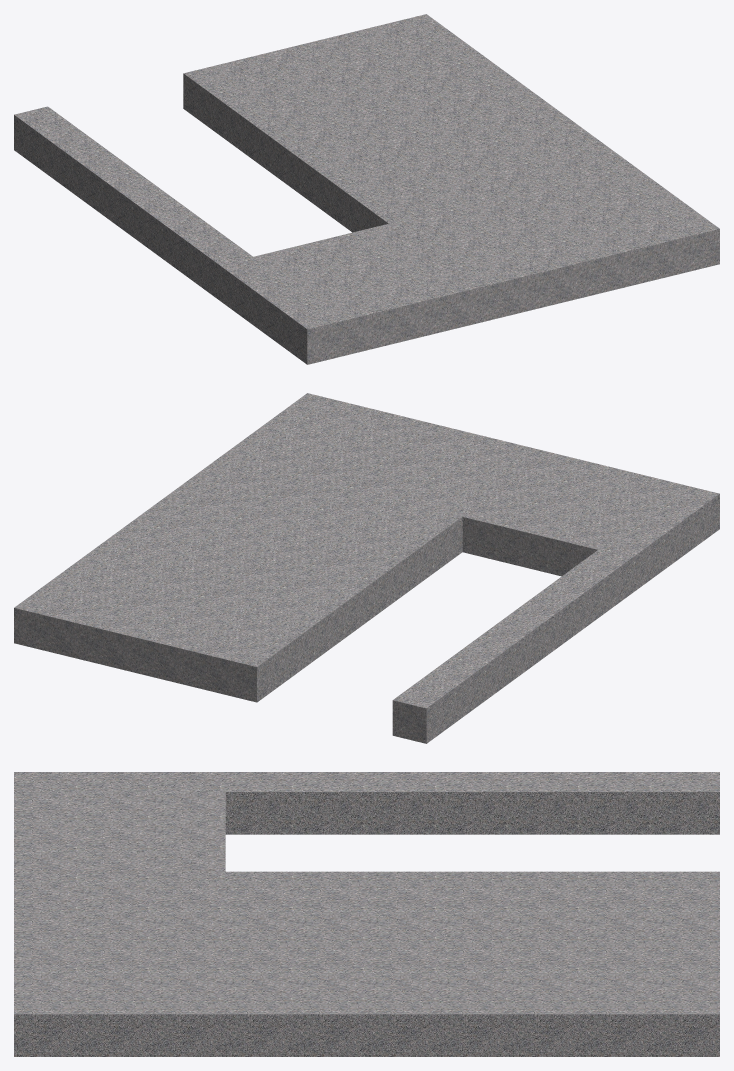
3 renders of one model, top to bottom at view 1: azimuth 30°, elevation 25°; view 2: azimuth 150°, elevation 25°; view 3: azimuth 270°, elevation 25°, orthographic. The views are drawn at different scales.
Parts seen in each view (by area): view 1: 0_3_1_2_1_2_0_2; view 2: 0_3_1_2_1_2_0_2; view 3: 0_3_1_2_1_2_0_2.
Boxes of the visible parts, x1=… form: 0_3_1_2_1_2_0_2: x1=14, y1=14, x2=719, y2=364; 0_3_1_2_1_2_0_2: x1=14, y1=393, x2=719, y2=743; 0_3_1_2_1_2_0_2: x1=14, y1=772, x2=719, y2=1056.
Size of the model in its own units: 2.44 by 0.2 by 3.
1 material, 1 textured.
